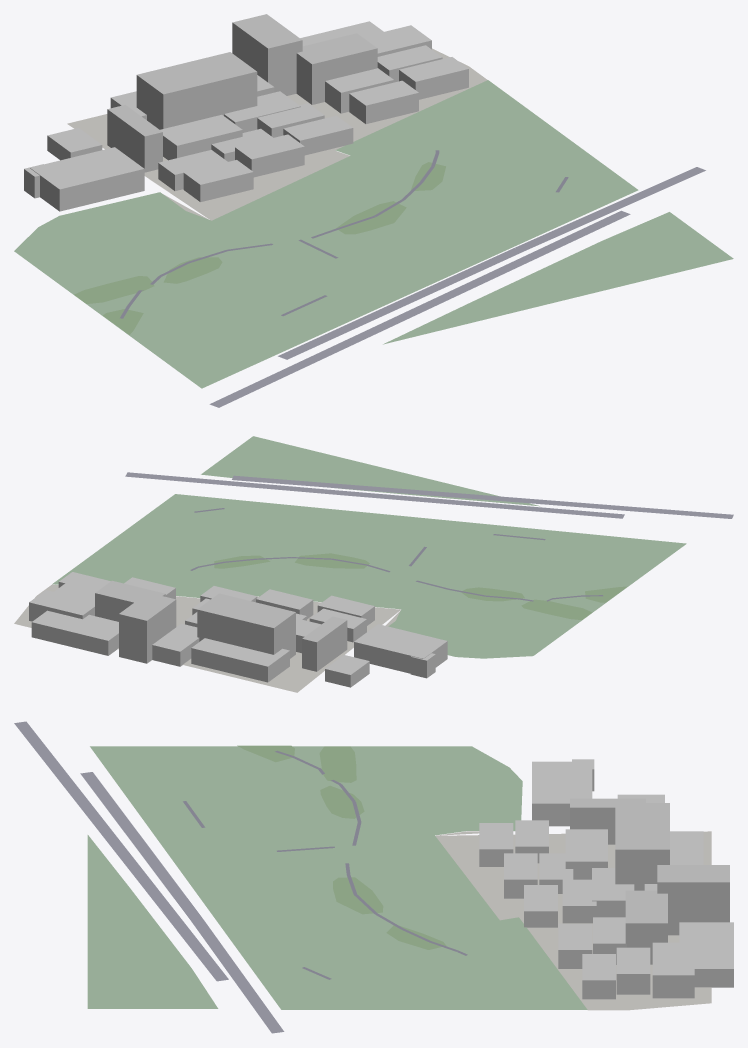
Rendered from 117_80_mid.glb.
3 views of the same model, one above another, from view 1: azimuth 30°, elevation 25°; view 2: azimuth 150°, elevation 25°; view 3: azimuth 270°, elevation 25° (orthographic). The views are drawn at different scales.
Bounding box in the file's own units: 582 × 47.33 × 577.
